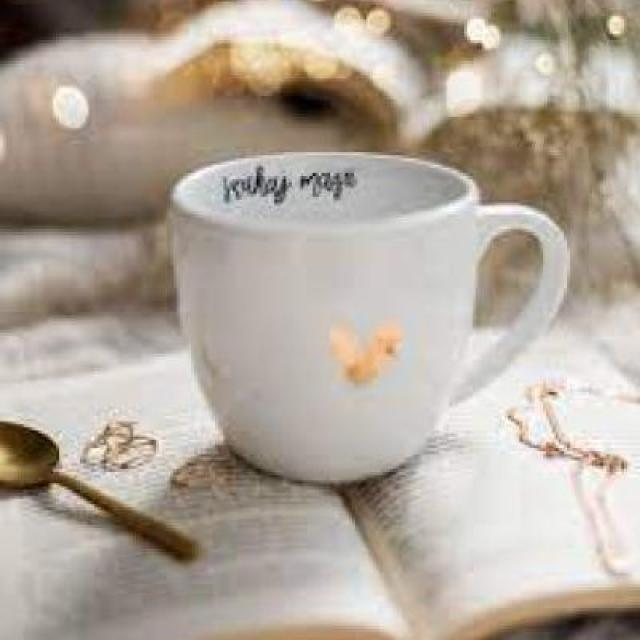cup: (157, 144, 579, 496)
